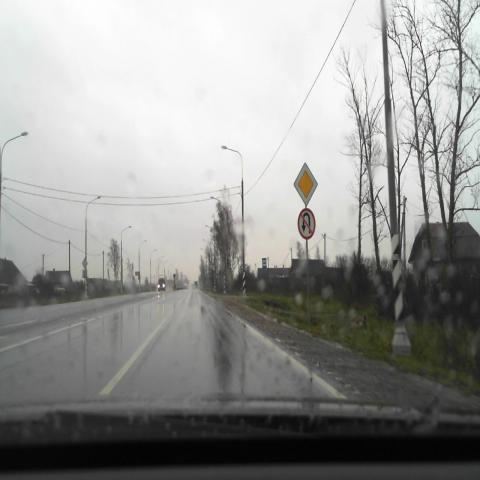3_19: (298, 208, 315, 239)
